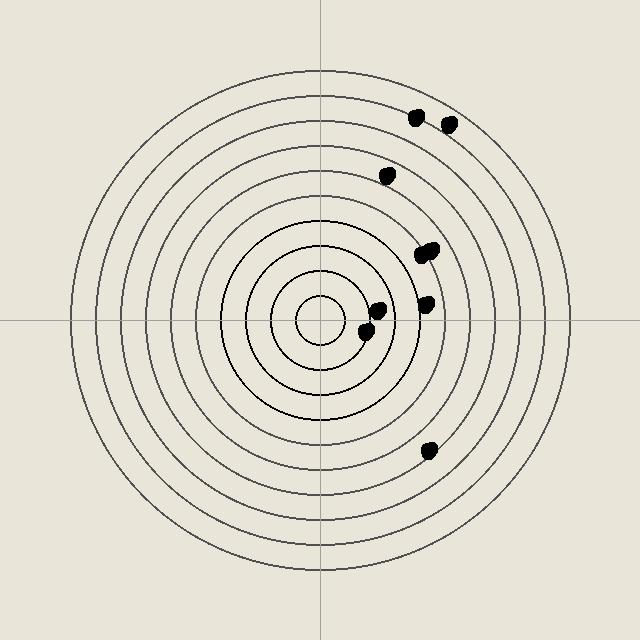vertical_scatter: (420, 240, 440, 260), (367, 300, 387, 320), (355, 321, 375, 341), (418, 440, 438, 460), (411, 244, 431, 264), (376, 165, 396, 185), (415, 294, 435, 314), (438, 114, 458, 134), (405, 107, 425, 127)
